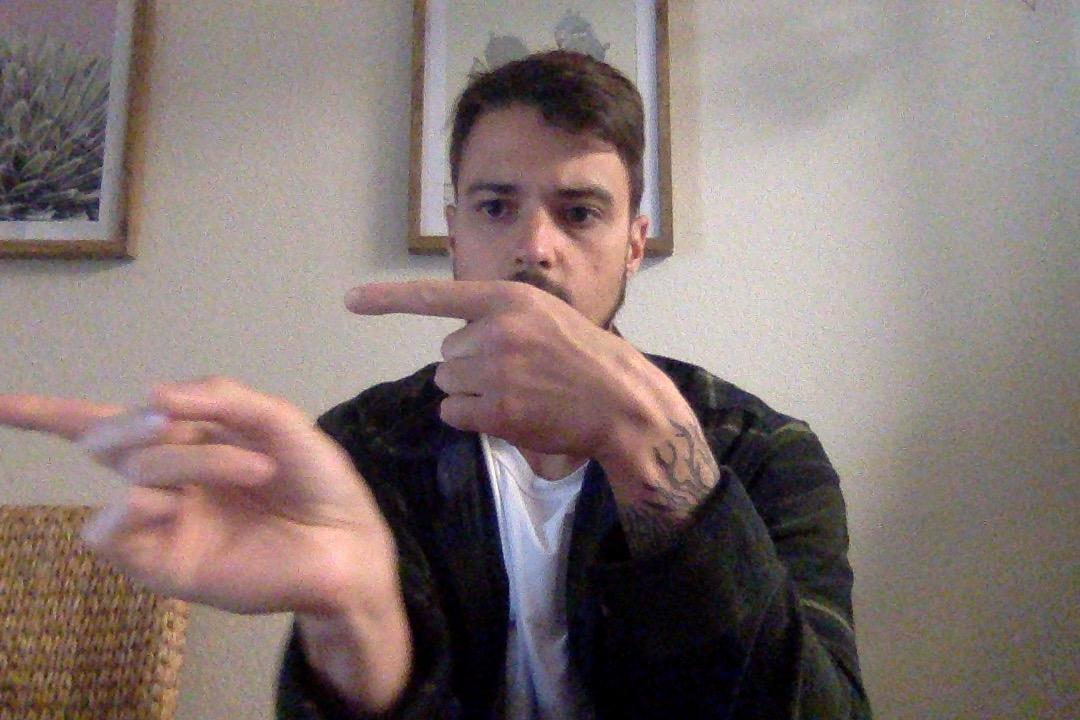Point-Left: (0, 362, 409, 635), (338, 268, 685, 464)
